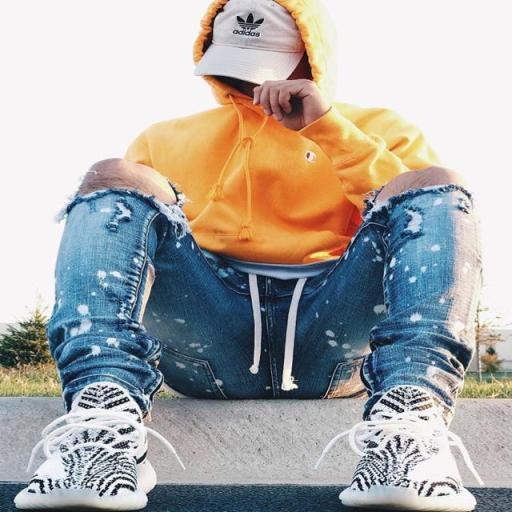Adidas: (232, 10, 264, 38)
